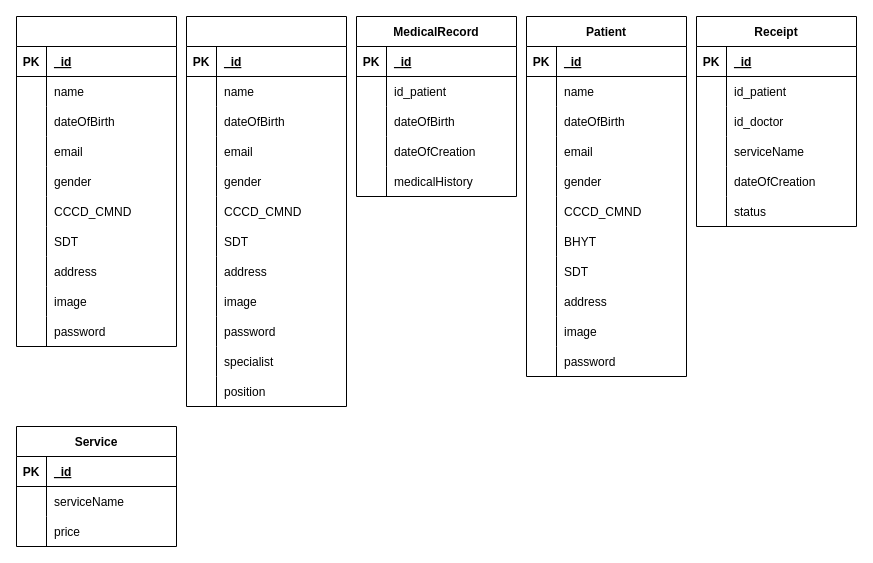
Some shapes in this 873 by 563 pixel diagram are drawn without their labels. Each missing label, with the box of its shape:
Admin: (16, 16, 176, 346)
Doctor: (186, 16, 346, 406)
